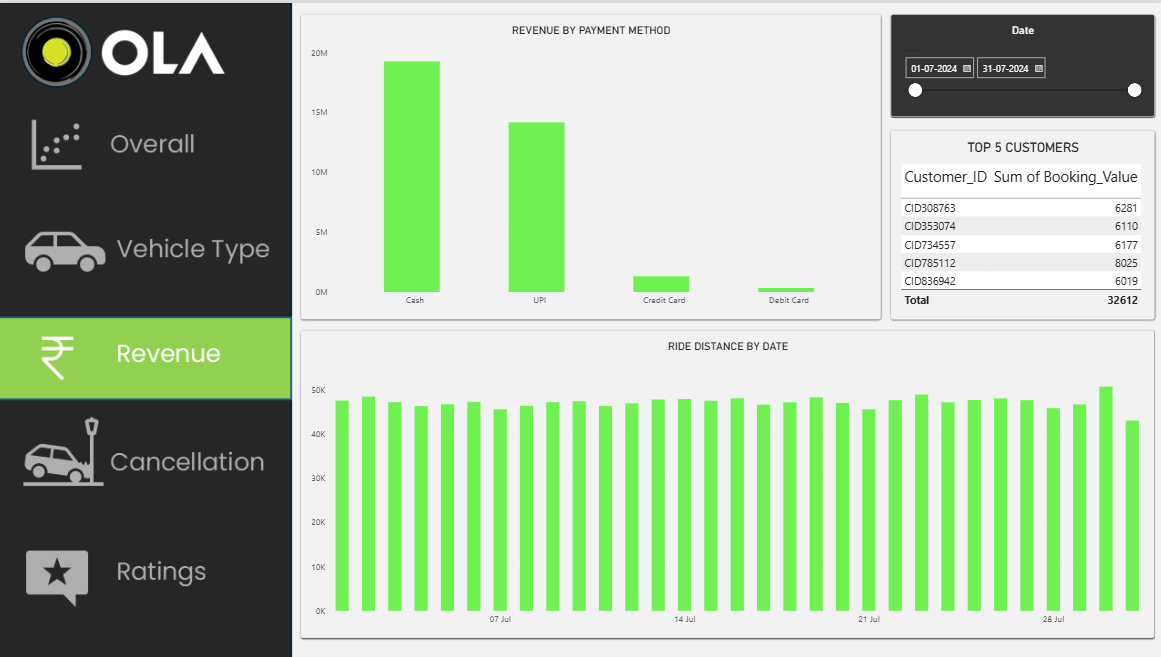

What the dashboard file says about the page in this screenshot:
{"tool":"powerbi","page":{"name":"Revenue","canvas":[1920,1080],"ordinal":2},"visuals":[{"type":"actionButton","box":[0,335,484.1,135.7],"z":0},{"type":"actionButton","box":[0,520.9,484.1,135.7],"z":1000},{"type":"actionButton","box":[1.7,678.4,484.1,135.7],"z":2000},{"type":"actionButton","box":[0,869.3,484.1,135.7],"z":3000},{"type":"actionButton","box":[1.7,169.2,484.1,135.7],"z":4000},{"type":"columnChart","title":"REVENUE BY PAYMENT METHOD","fields":{"Category":["July.Payment_Method"],"Y":["Sum(July.Booking_Value)"]},"box":[500.2,18.5,955.1,502.2],"z":4001},{"type":"columnChart","title":"RIDE DISTANCE BY DATE","fields":{"Category":["July.Date"],"Y":["Sum(July.Ride_Distance)"]},"box":[500.2,539.3,1405.8,506.3],"z":4002},{"type":"slicer","title":"Date","fields":{"Values":["July.Date"]},"box":[1471.7,18.5,434.3,168.8],"z":4003},{"type":"tableEx","title":"TOP 5 CUSTOMERS","fields":{"Values":["July.Customer_ID","Sum(July.Booking_Value)"]},"box":[1471.7,209.9,434.3,310.8],"z":4004}]}

Visuals, with their boxes in screenshot pixels (x1, y1, x2, y2), scaled from the page's 1920x1080 canvas onto the 1161x657 screenshot:
actionButton: 0,204,293,286
actionButton: 0,317,293,399
actionButton: 1,413,294,495
actionButton: 0,529,293,611
actionButton: 1,103,294,185
"REVENUE BY PAYMENT METHOD" columnChart: 302,11,880,317
"RIDE DISTANCE BY DATE" columnChart: 302,328,1153,636
"Date" slicer: 890,11,1153,114
"TOP 5 CUSTOMERS" tableEx: 890,128,1153,317
